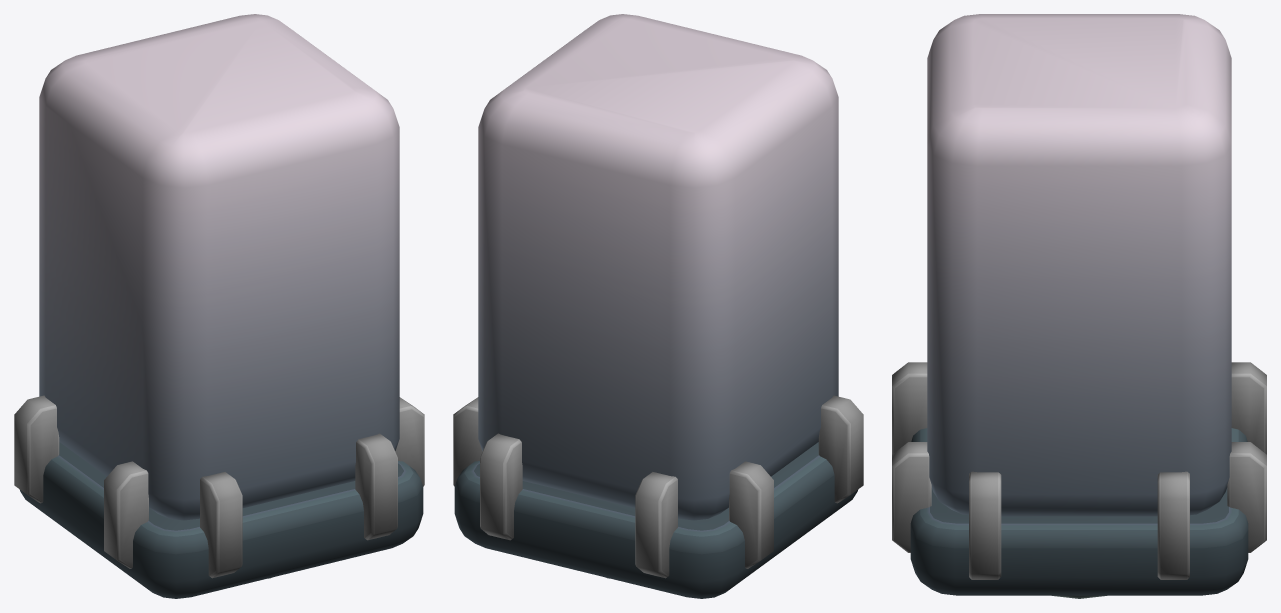
The model's file is sp_food_grower_can_tomato.fbx.
The picture shows the model from 3 angles, left to right: view 1: azimuth 30°, elevation 25°; view 2: azimuth 150°, elevation 25°; view 3: azimuth 270°, elevation 25°; orthographic projection. The views are drawn at different scales.
Parts seen in each view (by area): view 1: food_canister_tomato; view 2: food_canister_tomato; view 3: food_canister_tomato.
Boxes of the visible parts, <box> form: food_canister_tomato: <box>14,14,424,598</box>; food_canister_tomato: <box>453,14,863,598</box>; food_canister_tomato: <box>892,14,1266,598</box>.
Bounding box in the file's own units: 52.23 × 78.42 × 52.23.
